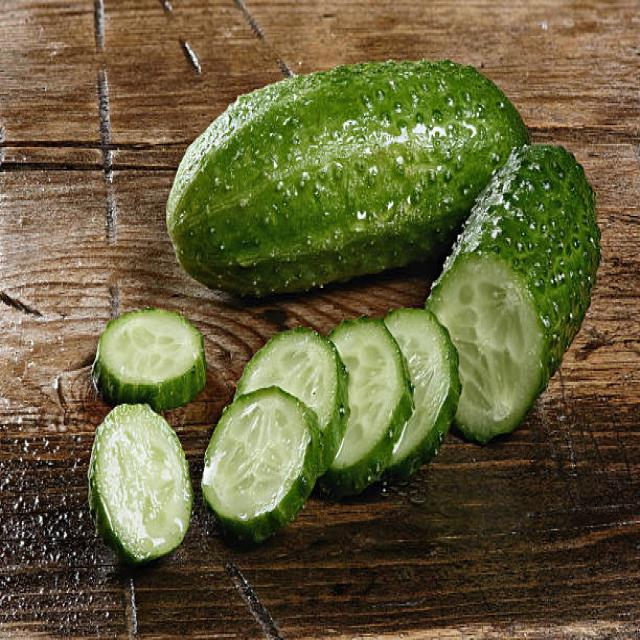cucumber: (167, 59, 531, 296), (424, 146, 602, 442)
